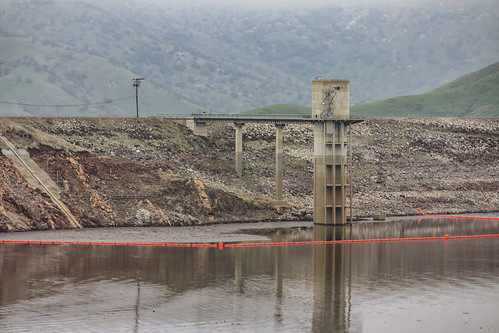bridge: (164, 84, 357, 220)
river: (24, 221, 499, 333)
